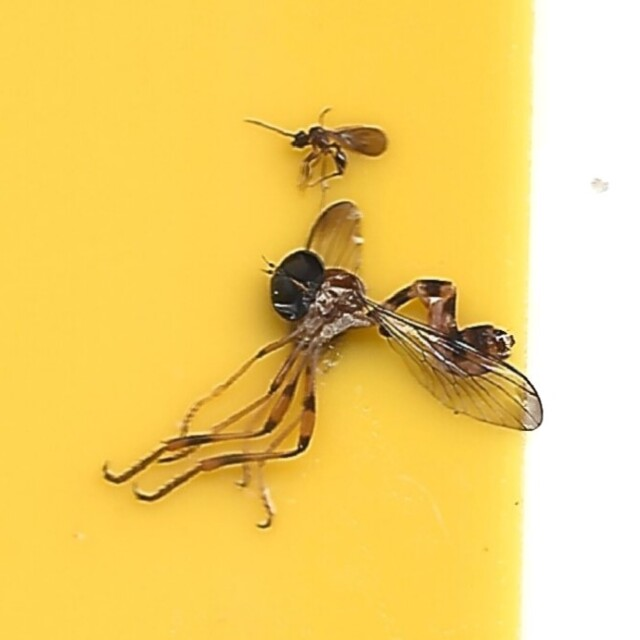Brachycera: (95, 200, 545, 531)
Hymenoptera: (242, 109, 391, 200)
